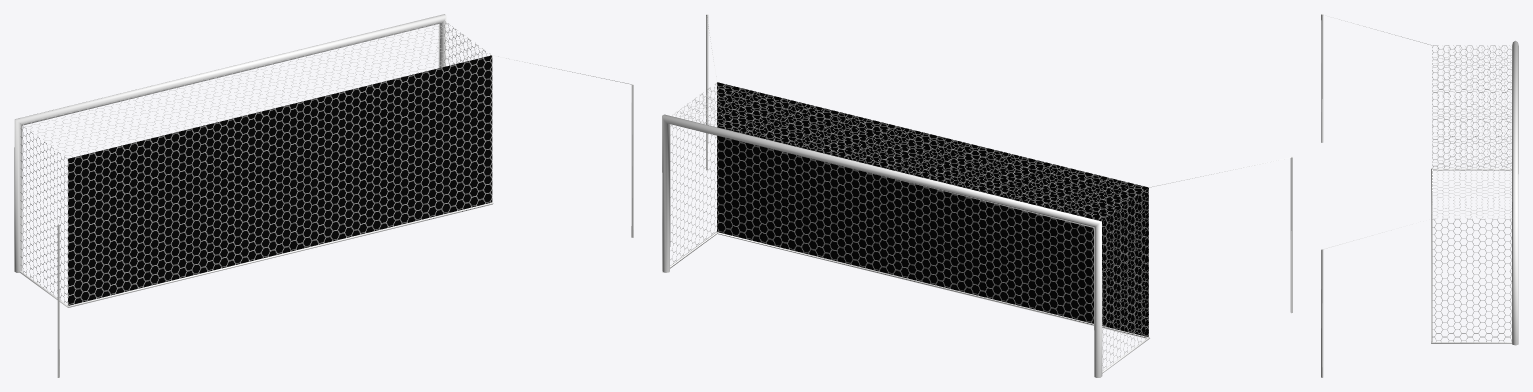
Rendered from soccer_goal.glb.
3 renders of one model, left to right at view 1: azimuth 30°, elevation 25°; view 2: azimuth 150°, elevation 25°; view 3: azimuth 270°, elevation 25°, orthographic. The views are drawn at different scales.
Visible parts, largest first — view 1: NetCube, soccerGoal; view 2: NetCube, soccerGoal; view 3: NetCube, soccerGoal.
Boxes of the visible parts, x1,y1,x2,y2 form: NetCube: (20,20,492,305); soccerGoal: (14,14,633,377); NetCube: (670,82,1148,370); soccerGoal: (662,14,1292,377); NetCube: (1432,45,1511,342); soccerGoal: (1321,14,1518,377).
Size of the model in its own units: 10.11 by 2.62 by 3.58.
Materials: 5 (4 with a texture image).
